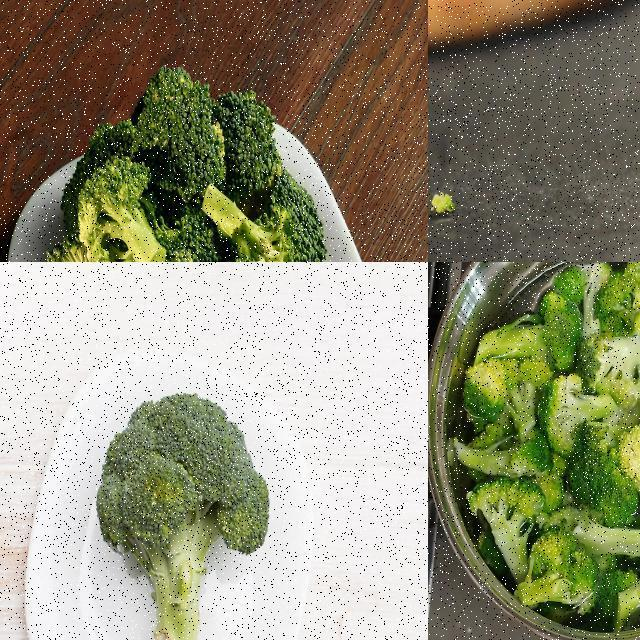broccoli: (93, 382, 272, 639), (126, 64, 224, 213), (199, 181, 331, 261), (464, 295, 589, 372), (79, 156, 168, 261), (468, 482, 545, 586), (511, 524, 601, 609), (546, 375, 616, 455), (613, 522, 639, 637)
